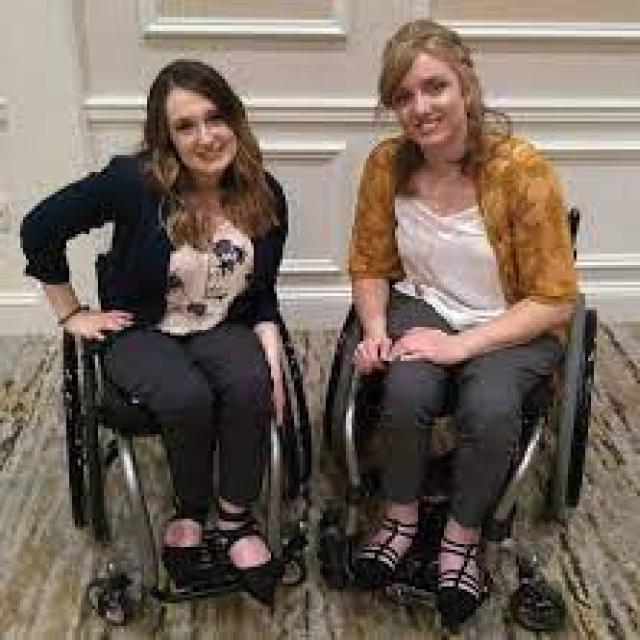wheelchairs: (302, 232, 638, 637), (23, 282, 312, 621)
